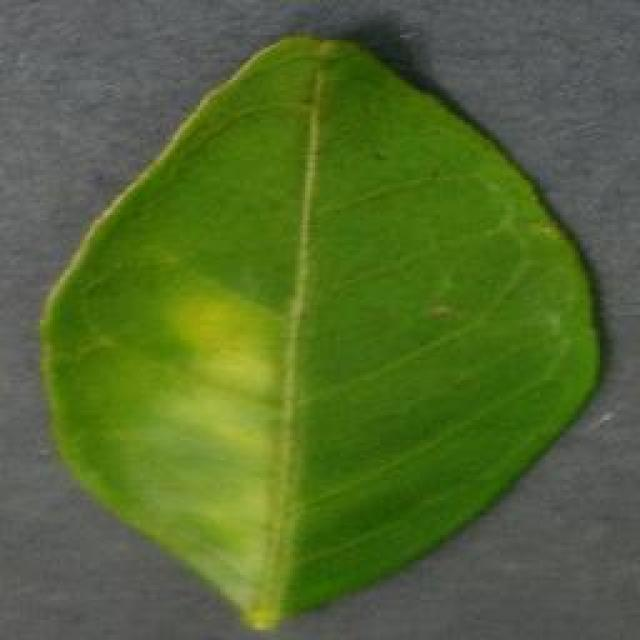Orange_Haunglongbing_Citrus_greening: (114, 84, 565, 516)
